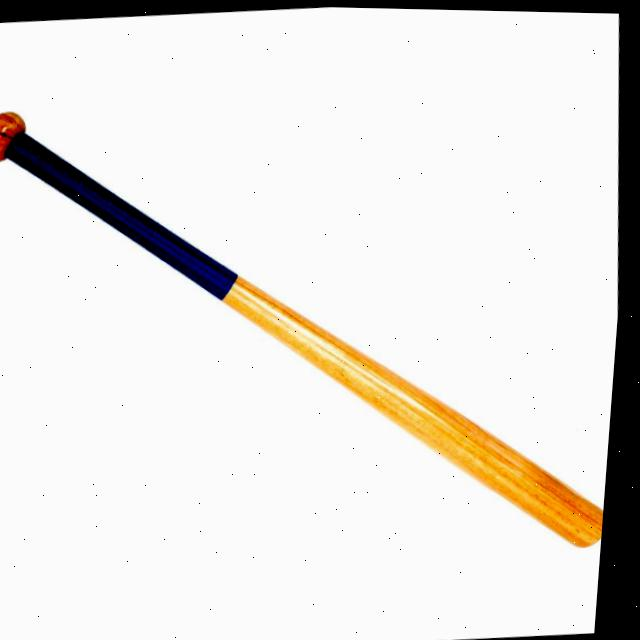baseball bat: (0, 81, 634, 640)
